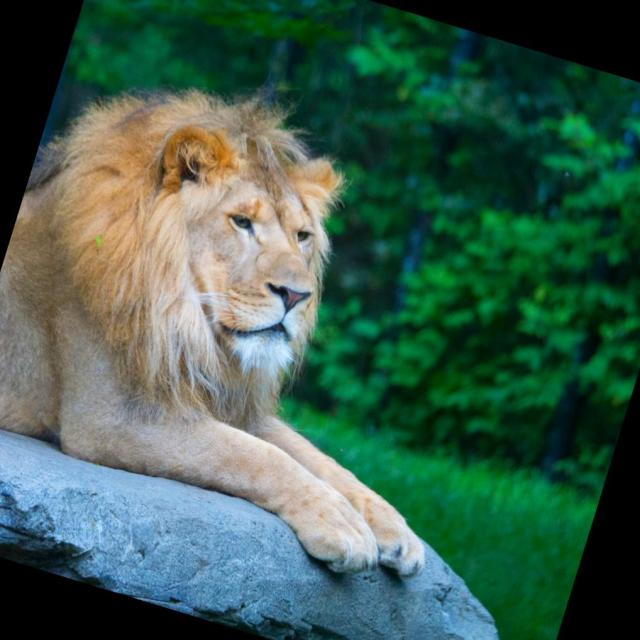Lion: (0, 26, 544, 599)
